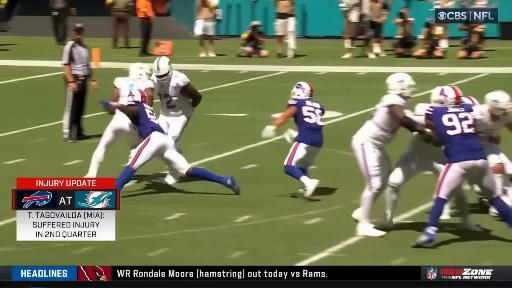Helmet: (386, 73, 415, 97), (485, 91, 511, 114), (153, 56, 172, 82), (440, 86, 463, 106), (291, 82, 313, 98), (129, 63, 149, 80), (430, 87, 444, 105), (129, 90, 146, 103), (462, 97, 479, 105)
Jersey: (426, 104, 486, 163), (353, 94, 408, 146), (151, 71, 193, 117), (287, 99, 325, 147), (128, 101, 164, 139), (474, 105, 510, 139), (114, 77, 154, 104), (409, 135, 442, 160), (462, 97, 479, 105)
Player: (412, 94, 511, 247), (101, 90, 239, 194), (352, 73, 425, 236), (262, 82, 324, 197), (376, 135, 446, 229), (151, 56, 202, 143), (474, 91, 511, 204), (86, 110, 140, 177), (431, 86, 479, 105)
